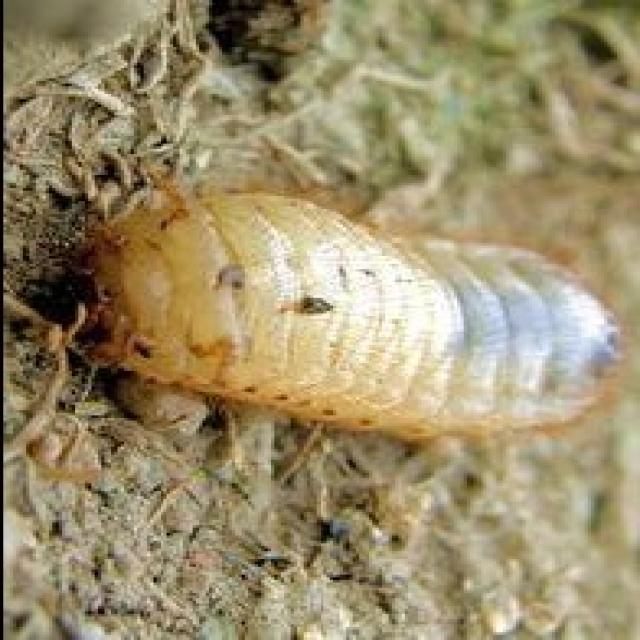grub: (66, 197, 628, 479)
